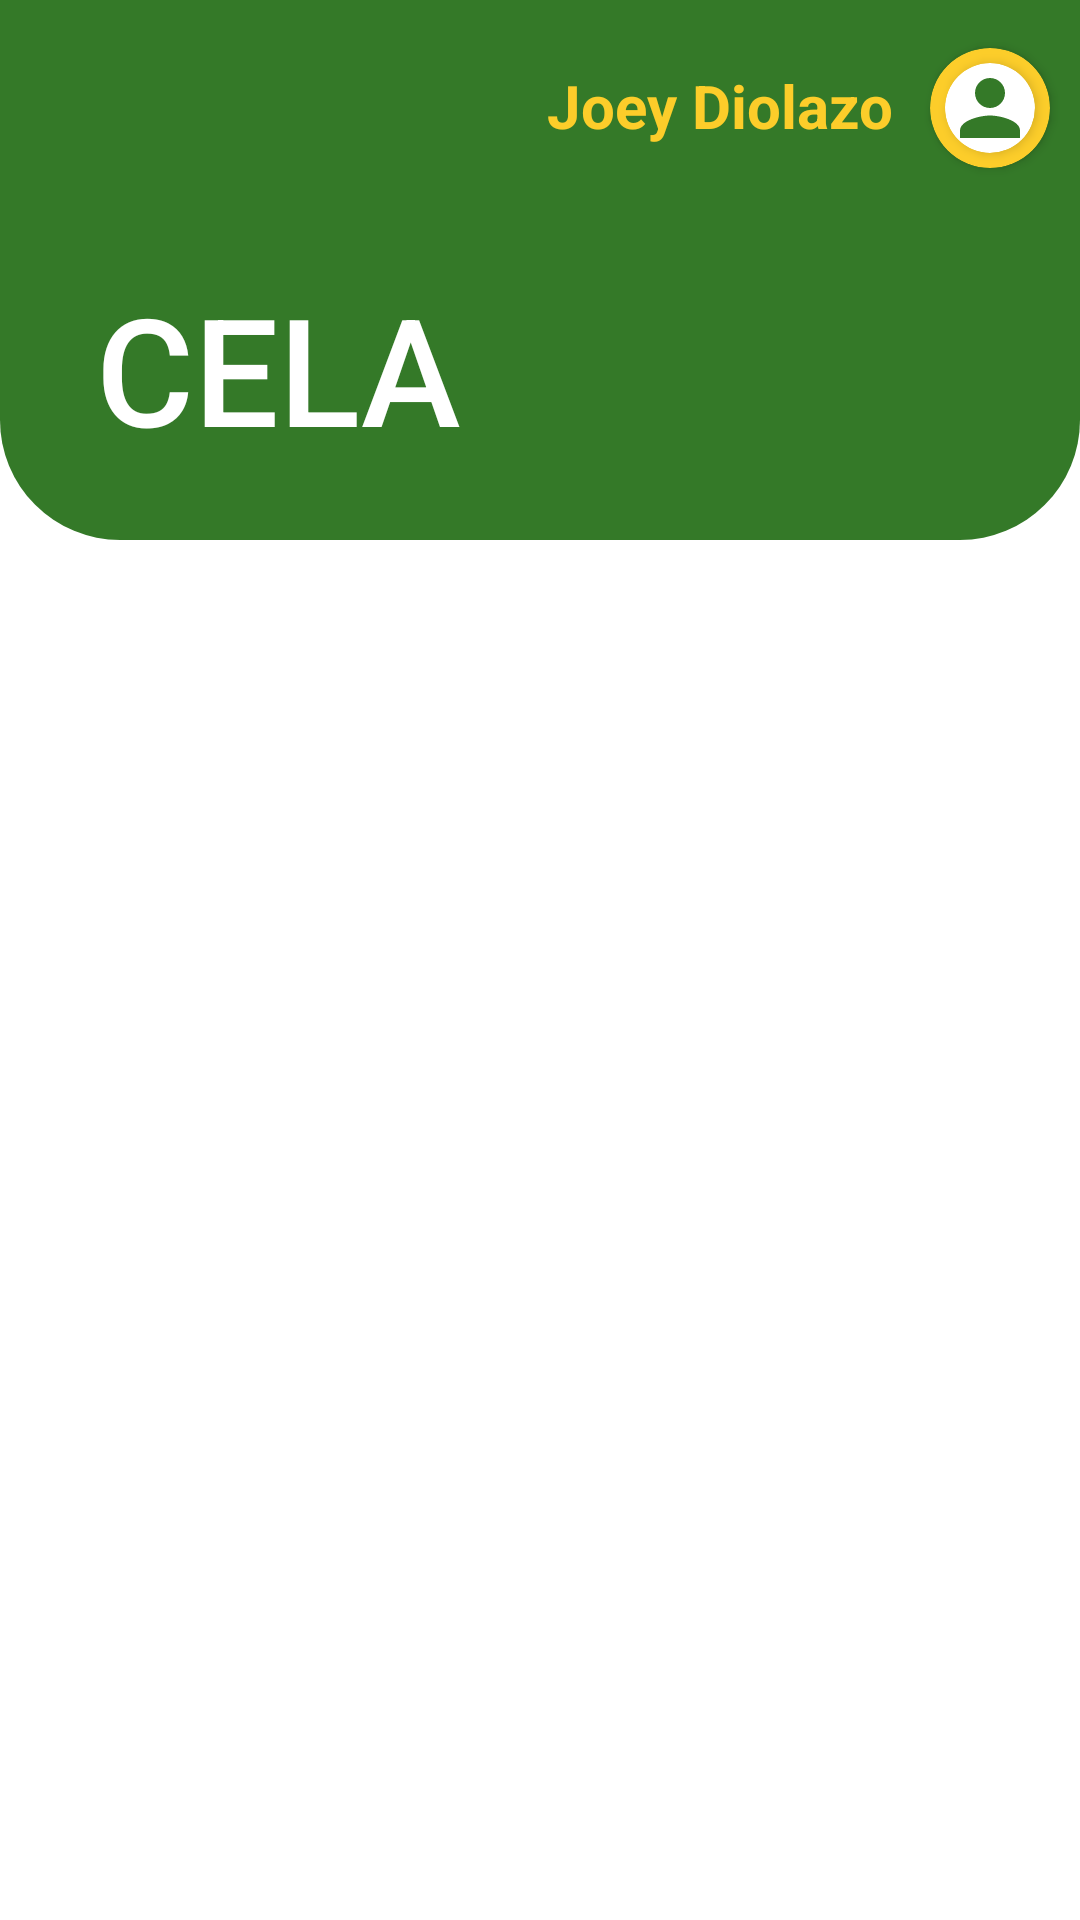

Icon click points for this 1080 x 1920 phone screenshot, format [x,y]:
person: [990,108]
